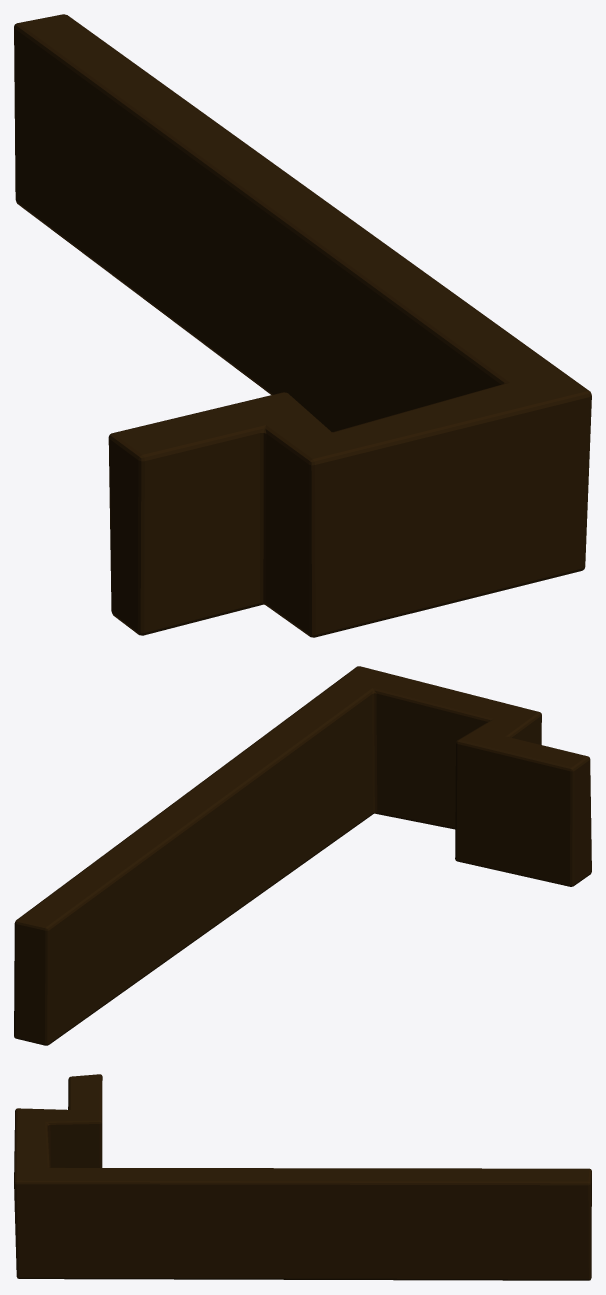
File: Wall piece 11 collider.fbx
3 views of the same model, one above another, from view 1: azimuth 30°, elevation 25°; view 2: azimuth 150°, elevation 25°; view 3: azimuth 270°, elevation 25° (orthographic). The views are drawn at different scales.
Parts seen in each view (by area): view 1: wall piece 11 collider; view 2: wall piece 11 collider; view 3: wall piece 11 collider.
Boxes of the visible parts, bbox=[...] form: wall piece 11 collider: bbox=[14, 14, 591, 637]; wall piece 11 collider: bbox=[14, 666, 591, 1045]; wall piece 11 collider: bbox=[14, 1074, 591, 1280].
Size of the model in its own units: 989 by 2214 by 437.
